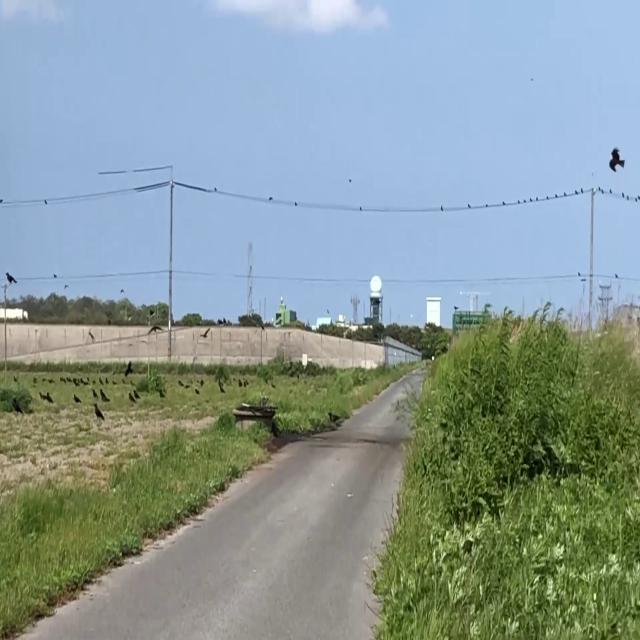bird: (608, 138, 624, 178), (6, 266, 16, 288), (95, 398, 102, 424), (74, 389, 79, 407), (130, 391, 135, 408), (238, 376, 242, 390)
